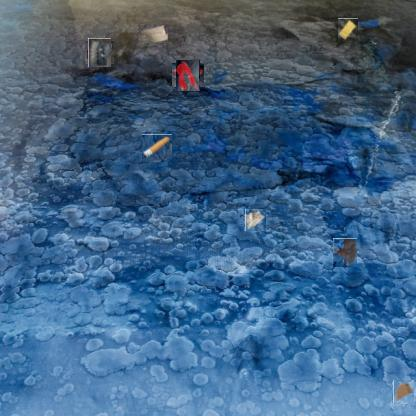dirty: (144, 133, 171, 161), (87, 40, 112, 66), (139, 23, 168, 43), (393, 381, 415, 404), (338, 18, 358, 41), (245, 210, 266, 231)
liquid: (174, 62, 202, 90), (333, 238, 357, 267)
